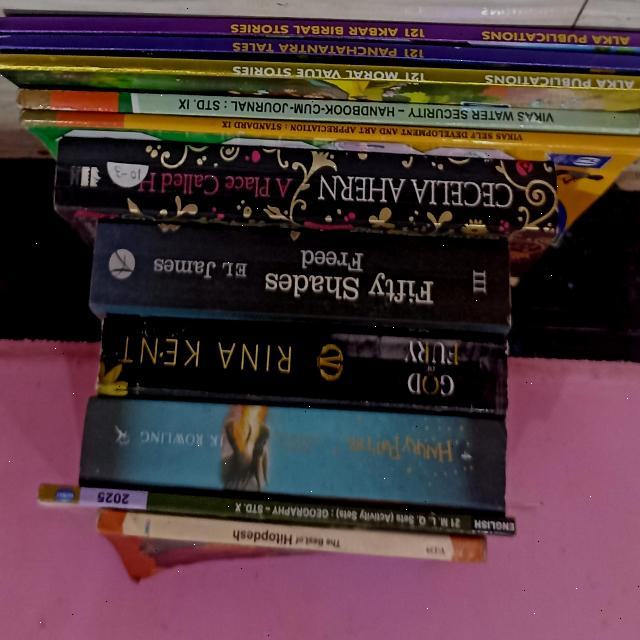book: (81, 401, 510, 513), (55, 139, 560, 231), (87, 221, 513, 324), (96, 316, 512, 412), (17, 89, 640, 134), (20, 112, 640, 154), (41, 484, 522, 537), (0, 55, 640, 92), (1, 10, 640, 47), (100, 507, 487, 567), (0, 35, 639, 70)
